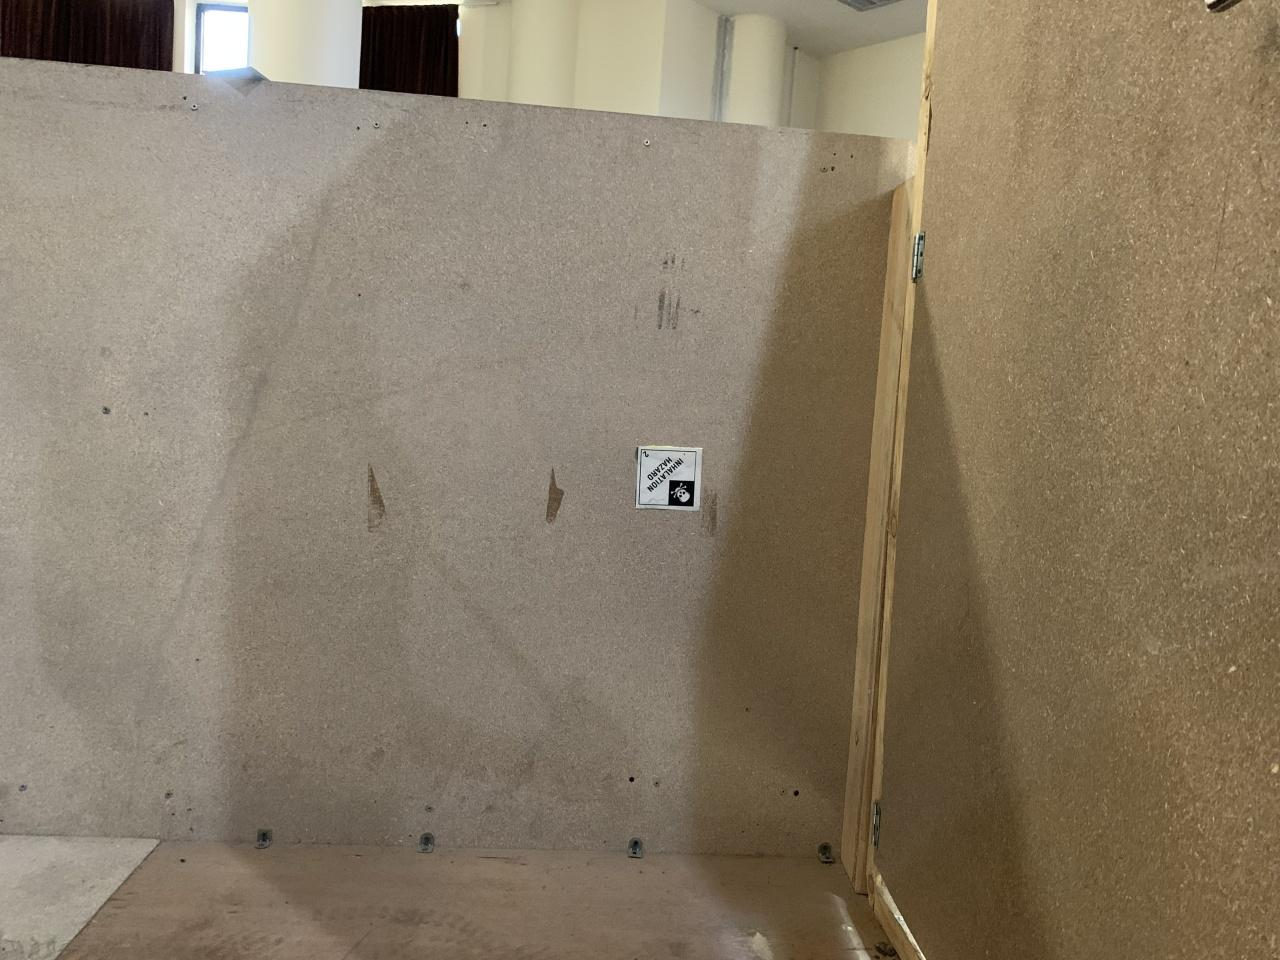poison: (635, 445, 702, 512)
